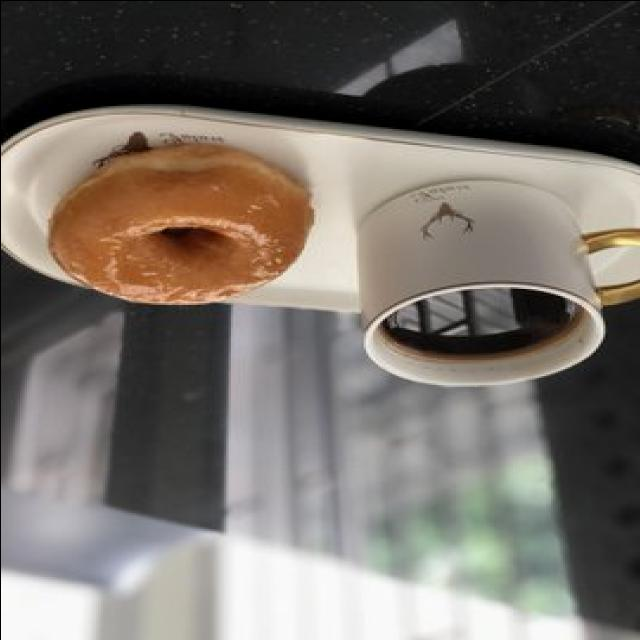donat: (45, 139, 315, 304)
